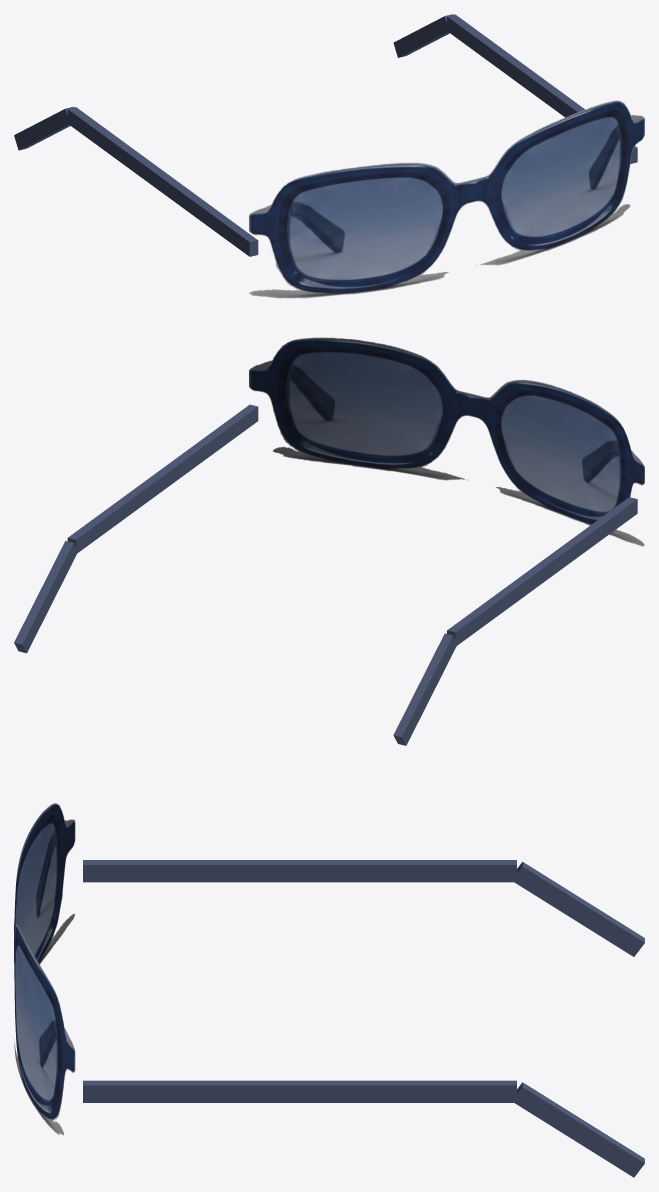
3 renders of one model, top to bottom at view 1: azimuth 30°, elevation 25°; view 2: azimuth 150°, elevation 25°; view 3: azimuth 270°, elevation 25°, orthographic. The views are drawn at different scales.
Parts seen in each view (by area): view 1: anteojo; view 2: anteojo; view 3: anteojo.
Part boxes in pixels (x1,y1,x2,y2): anteojo: [14, 14, 644, 298]; anteojo: [14, 337, 644, 745]; anteojo: [14, 803, 644, 1177].
Size of the model in its own units: 0.142 by 0.0506 by 0.1644.
Materials: 2 (1 with a texture image).
